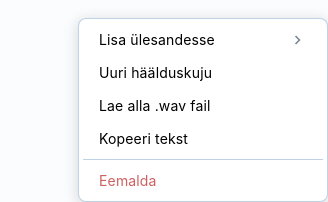
SentenceMenu authenticated › shows search and tasks when authenticated
(page scrolled)
Click the text "Lisa ülesandesse": [157, 40] box x1=99 y1=29 x2=215 y2=50
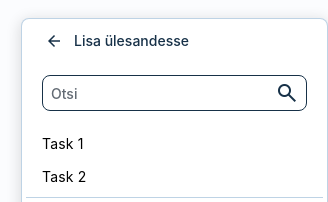
Now the field with placeholder "Otsi" is shown, box x1=42 y1=75 x2=307 y2=111
Now the text "Task 1" is shown, box x1=42 y1=133 x2=84 y2=154
